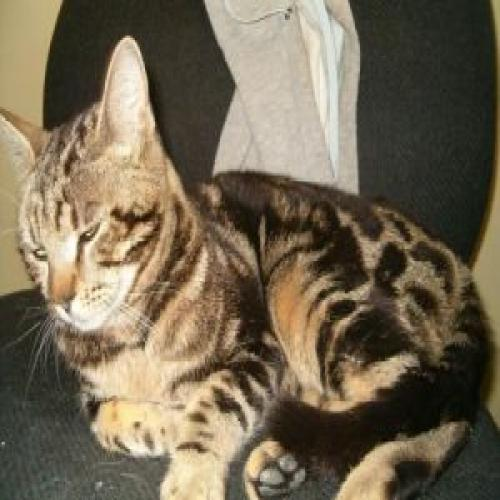cat-face: (1, 28, 190, 339)
